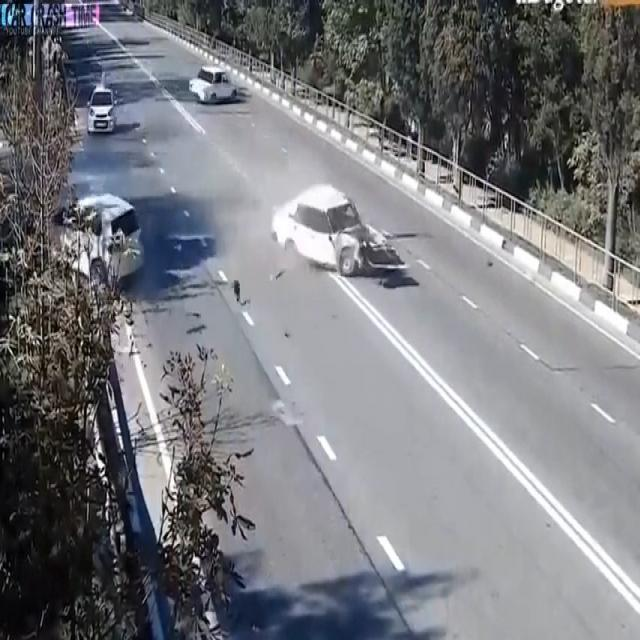Accident: (255, 132, 388, 320), (35, 134, 141, 301)
